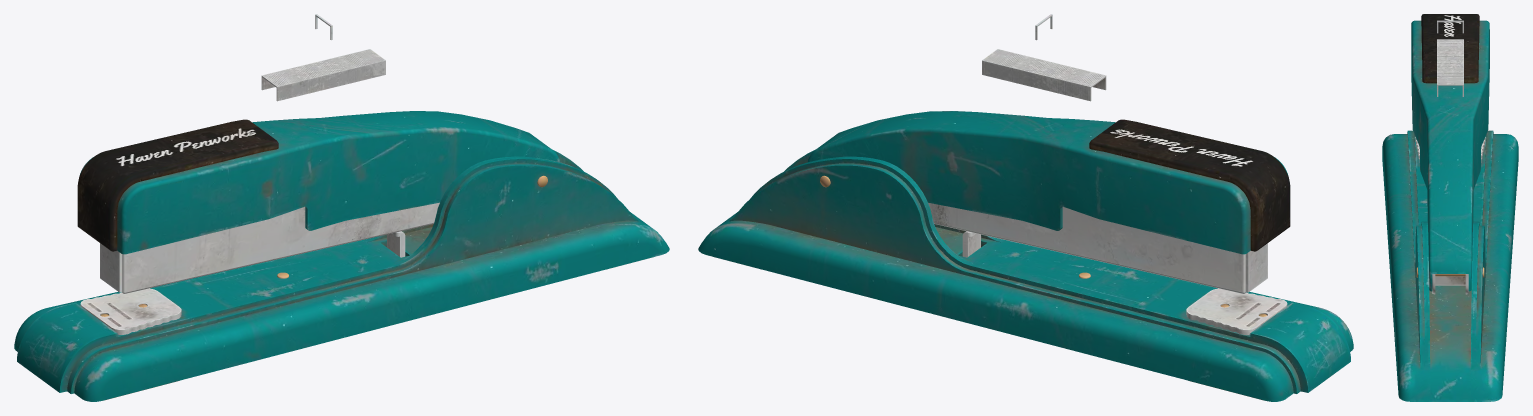
Rendered from vintage_stapler.glb.
The picture shows the model from 3 angles, left to right: view 1: azimuth 30°, elevation 25°; view 2: azimuth 150°, elevation 25°; view 3: azimuth 270°, elevation 25°; orthographic projection. The views are drawn at different scales.
Parts seen in each view (by area): view 1: vintage_stapler_base, vintage_stapler_top, vintage_stapler_staples; view 2: vintage_stapler_base, vintage_stapler_top, vintage_stapler_staples; view 3: vintage_stapler_base, vintage_stapler_top, vintage_stapler_staples.
Boxes of the visible parts, x1,y1,x2,y2 form: vintage_stapler_base: [14, 149, 669, 401]; vintage_stapler_top: [77, 111, 560, 293]; vintage_stapler_staples: [261, 49, 385, 101]; vintage_stapler_base: [698, 149, 1353, 401]; vintage_stapler_top: [807, 111, 1290, 293]; vintage_stapler_staples: [982, 49, 1106, 101]; vintage_stapler_base: [1382, 130, 1518, 401]; vintage_stapler_top: [1411, 14, 1489, 294]; vintage_stapler_staples: [1437, 39, 1463, 96].
Bounding box in the file's own units: 0.2085 × 0.0953 × 0.0474.
1 material, 1 textured.
